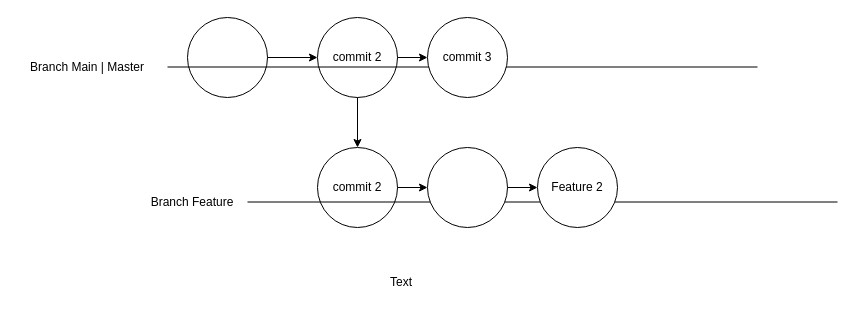
The diagram is 856 pixels wide and 315 high, and some of its shapes have lost their labels. The box of each missing label's shape, as (x1, y1, x2, y2) in pixels:
commit 1: (186, 16, 268, 98)
Feature 1: (426, 146, 508, 228)
